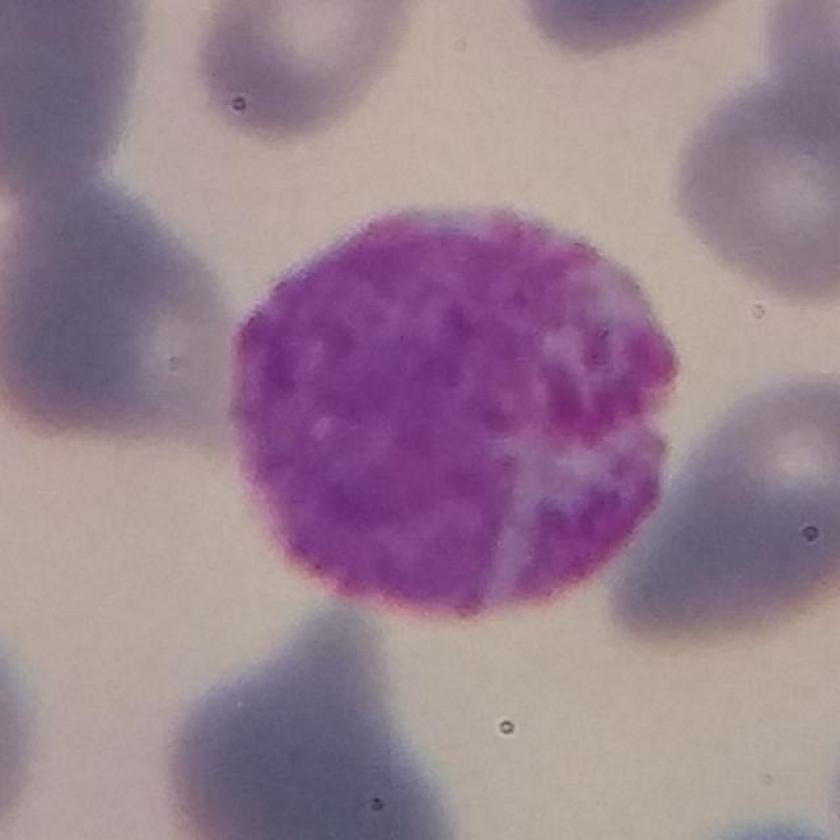basophil: (229, 189, 689, 626)
